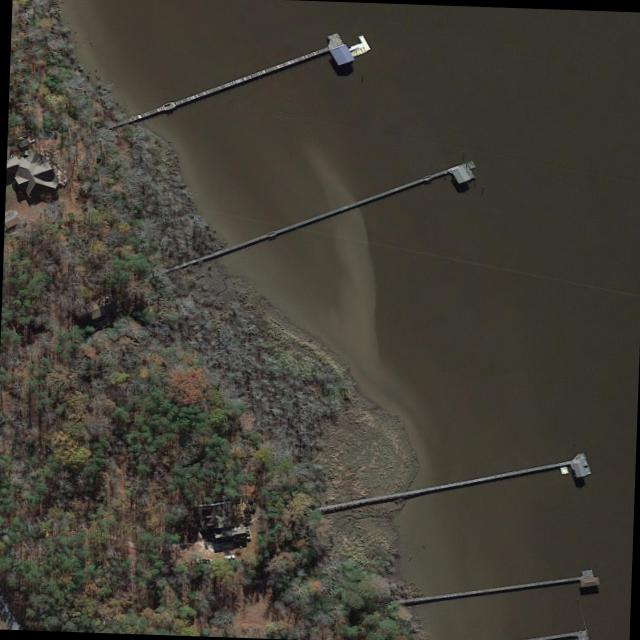ship: (192, 554, 213, 563)
small-vehicle: (220, 552, 236, 558)
